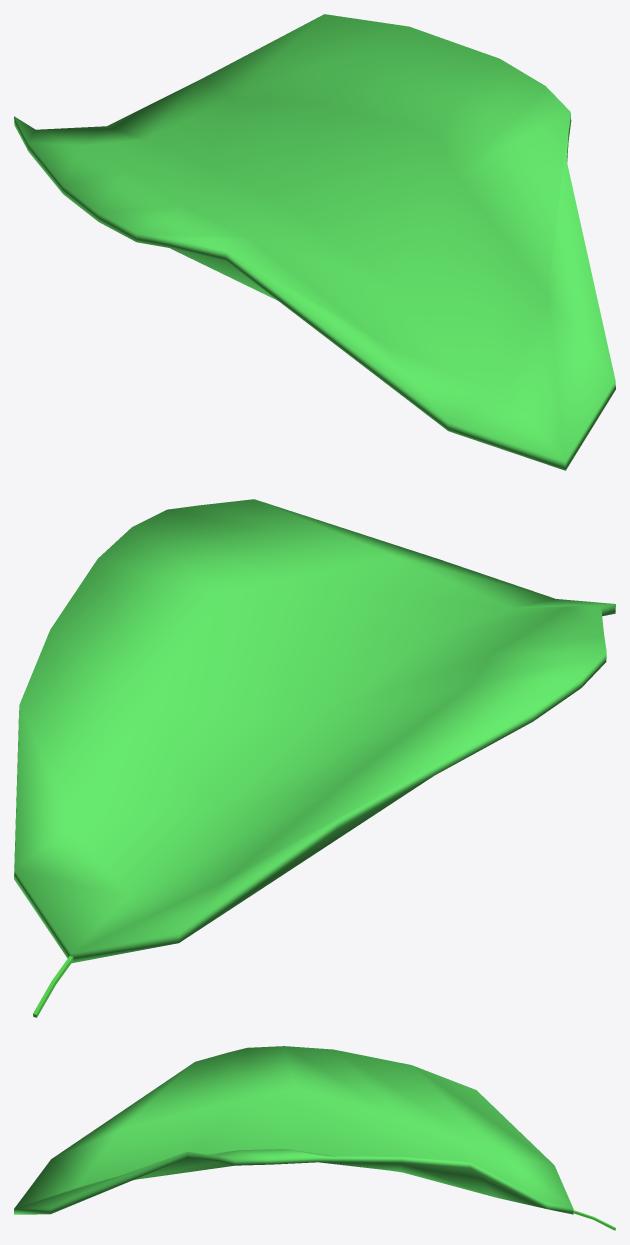
File: leaf vol.2.fbx
The picture shows the model from 3 angles, top to bottom: view 1: azimuth 30°, elevation 25°; view 2: azimuth 150°, elevation 25°; view 3: azimuth 270°, elevation 25°; orthographic projection. The views are drawn at different scales.
Visible parts, largest first — view 1: Plane; view 2: Plane; view 3: Plane.
Boxes of the visible parts, left/top/right/bottom form: Plane: left=14, top=14, right=615, bottom=470; Plane: left=14, top=499, right=615, bottom=963; Plane: left=14, top=1046, right=573, bottom=1214.
Bounding box in the file's own units: 261 × 120 × 510.
